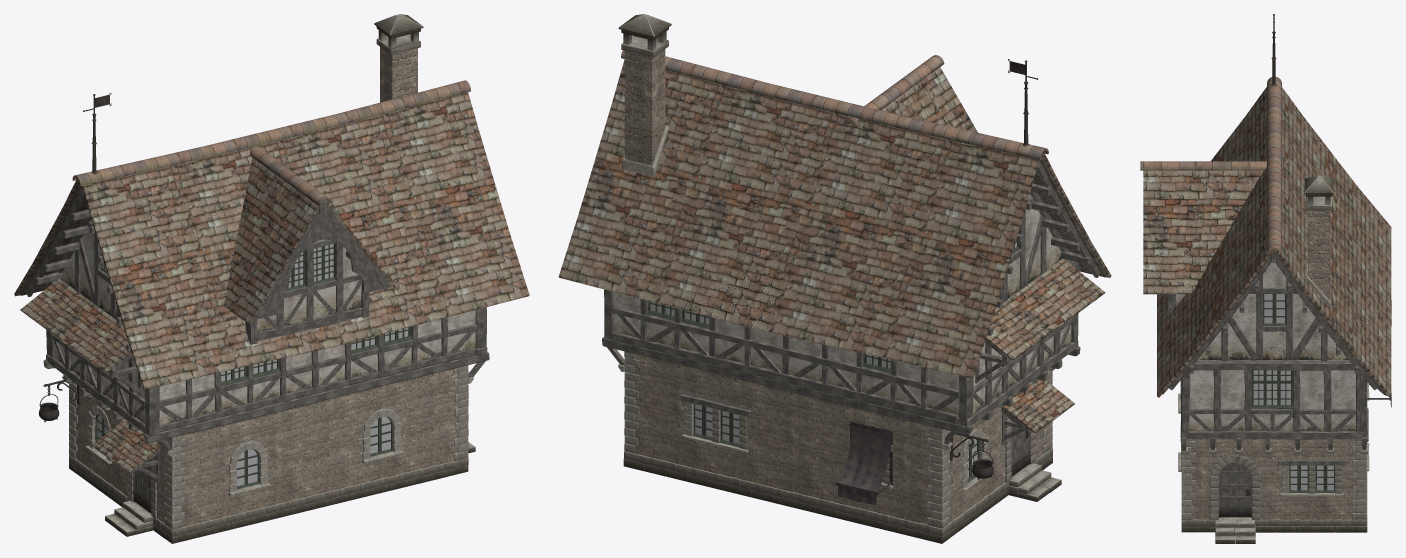
Rendered from 6_Village.obj.
3 views of the same model, side by side, from view 1: azimuth 30°, elevation 25°; view 2: azimuth 150°, elevation 25°; view 3: azimuth 270°, elevation 25° (orthographic). The views are drawn at different scales.
Parts seen in each view (by area): view 1: LongRoofMiddle1, LongBase3, LongMiddle2, DormerLarge3, AwningMedium, Chimney2, AwningSmall001, Sign4; view 2: LongRoofMiddle1, LongBase3, LongMiddle2, Chimney2, AwningMedium, DormerLarge3, Curtain001, AwningSmall001, Sign4; view 3: LongRoofMiddle1, LongBase3, LongMiddle2, DormerLarge3, Chimney2.
Boxes of the visible parts, box(x1,y1,x2,y2) form: LongRoofMiddle1: box(14, 80, 529, 389); LongBase3: box(69, 365, 475, 543); LongMiddle2: box(43, 281, 489, 456); DormerLarge3: box(223, 146, 397, 344); AwningMedium: box(20, 279, 141, 394); Chimney2: box(374, 14, 423, 102); AwningSmall001: box(92, 420, 161, 482); Sign4: box(38, 380, 79, 422); LongRoofMiddle1: box(558, 50, 1111, 378); LongBase3: box(623, 351, 1061, 543); LongMiddle2: box(602, 259, 1080, 450); Chimney2: box(618, 14, 671, 176); AwningMedium: box(975, 259, 1105, 383); DormerLarge3: box(843, 55, 977, 132); Curtain001: box(835, 421, 892, 505); AwningSmall001: box(1001, 379, 1074, 444); Sign4: box(950, 433, 993, 480); LongRoofMiddle1: box(1157, 76, 1391, 397); LongBase3: box(1178, 383, 1369, 543); LongMiddle2: box(1180, 360, 1367, 454); DormerLarge3: box(1140, 161, 1286, 316); Chimney2: box(1304, 175, 1333, 310).
Size of the model in its own units: 271 by 269 by 163.
47 materials, 42 textured.
